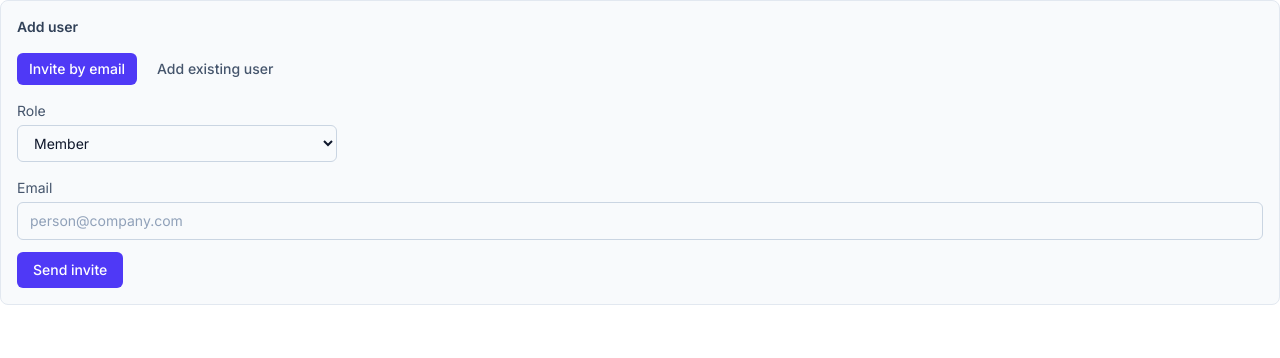
Test: AddUserPanel — invite by email (US1) › submitting a valid email invites and renders an 'invitation sent' confirmation
Type "new.person@x.com" into the field labelled "Email". click: (640, 221)
box: [17,202,1263,240]
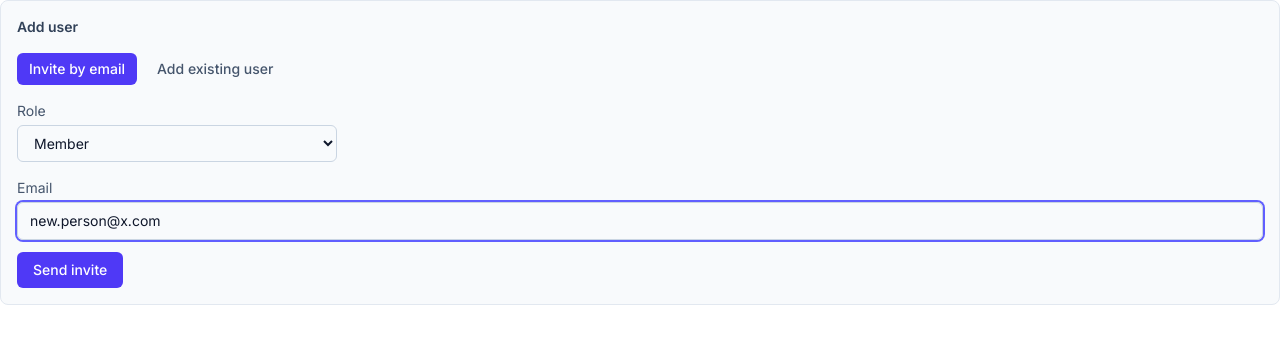
Click the button "Send invite". click: (70, 270)
box: [17,252,123,288]
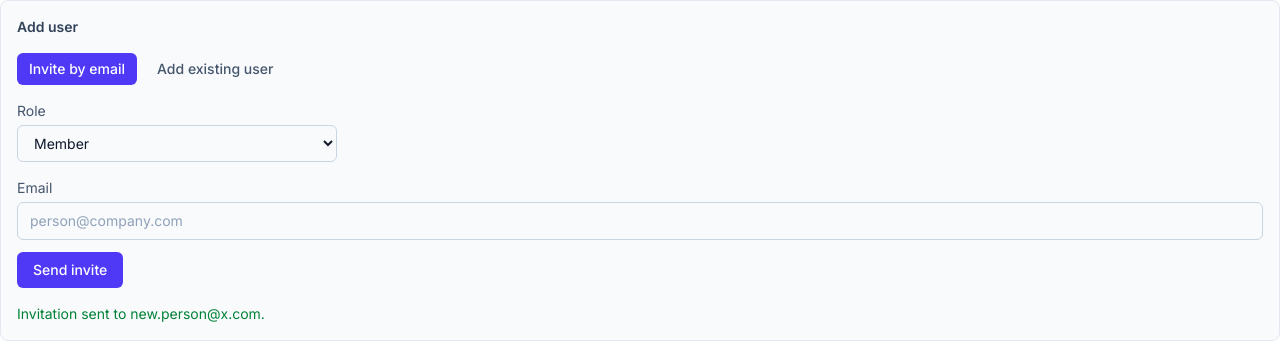
Check: the text "Invitation sent to new.person@x.com." is shown, box [17,305,265,322]
